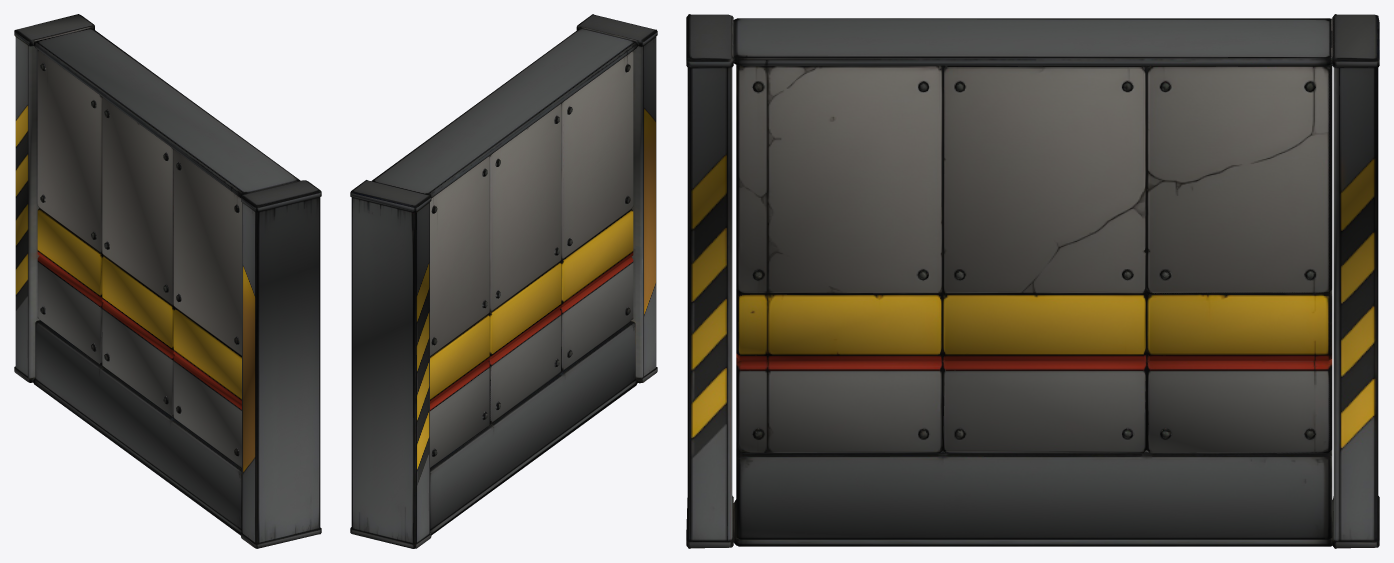
File: wall.glb
3 views of the same model, side by side, from view 1: azimuth 30°, elevation 25°; view 2: azimuth 150°, elevation 25°; view 3: azimuth 270°, elevation 25° (orthographic). The views are drawn at different scales.
Visible parts, largest first — view 1: tripo_node_3aa9bb66-f395-473b-bc9a-8b141b663f23; view 2: tripo_node_3aa9bb66-f395-473b-bc9a-8b141b663f23; view 3: tripo_node_3aa9bb66-f395-473b-bc9a-8b141b663f23.
Part boxes in pixels (x1,y1,x2,y2): tripo_node_3aa9bb66-f395-473b-bc9a-8b141b663f23: [14, 14, 321, 548]; tripo_node_3aa9bb66-f395-473b-bc9a-8b141b663f23: [350, 14, 657, 548]; tripo_node_3aa9bb66-f395-473b-bc9a-8b141b663f23: [686, 14, 1379, 548].
Bounding box in the file's own units: 0.5706 × 2.81 × 3.6.
Materials: 1 (1 with a texture image).
